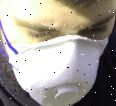with_mask: (1, 1, 116, 106)
